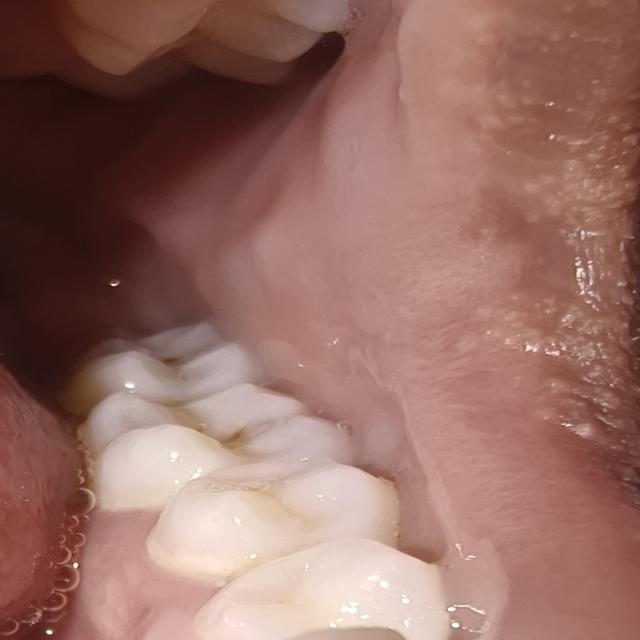processing_area: (153, 2, 639, 640)
